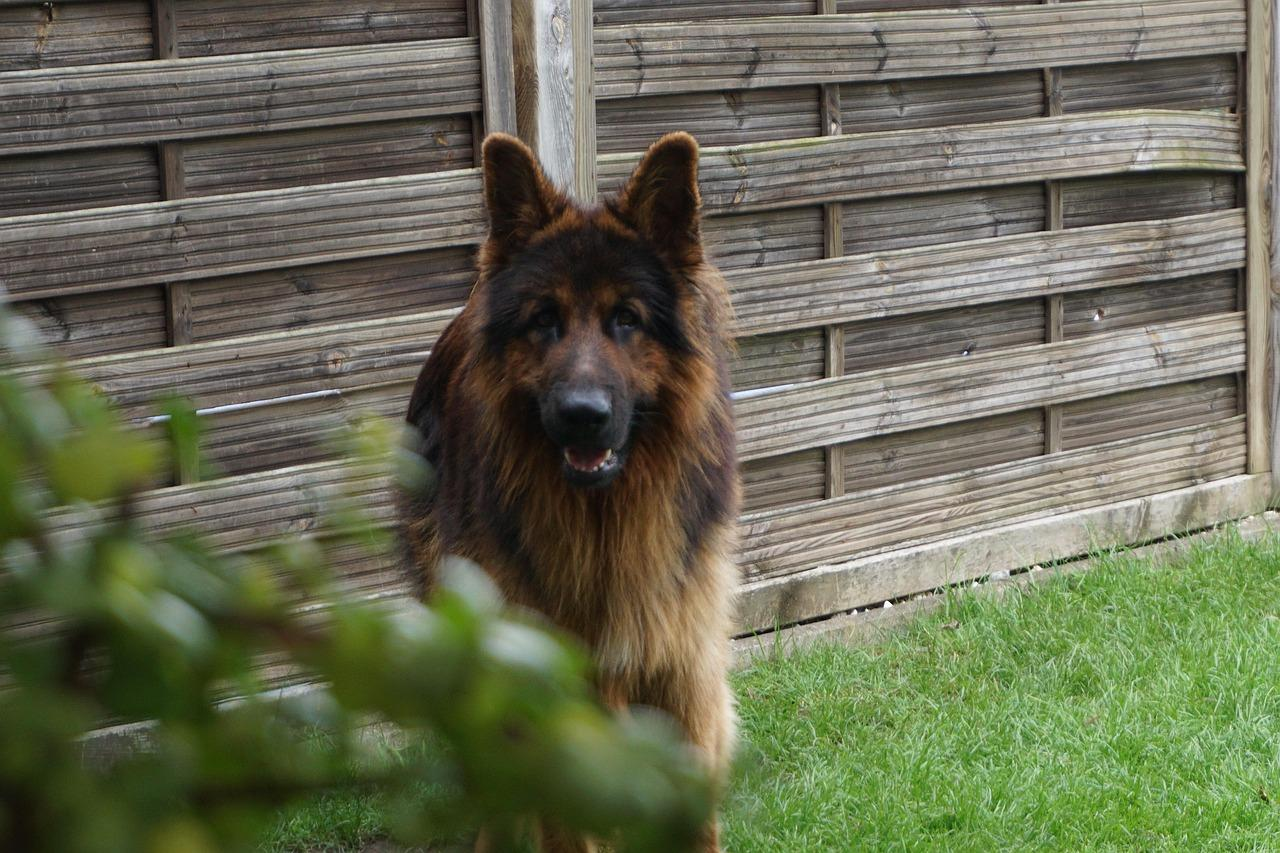german_shepherd: (463, 185, 724, 510)
